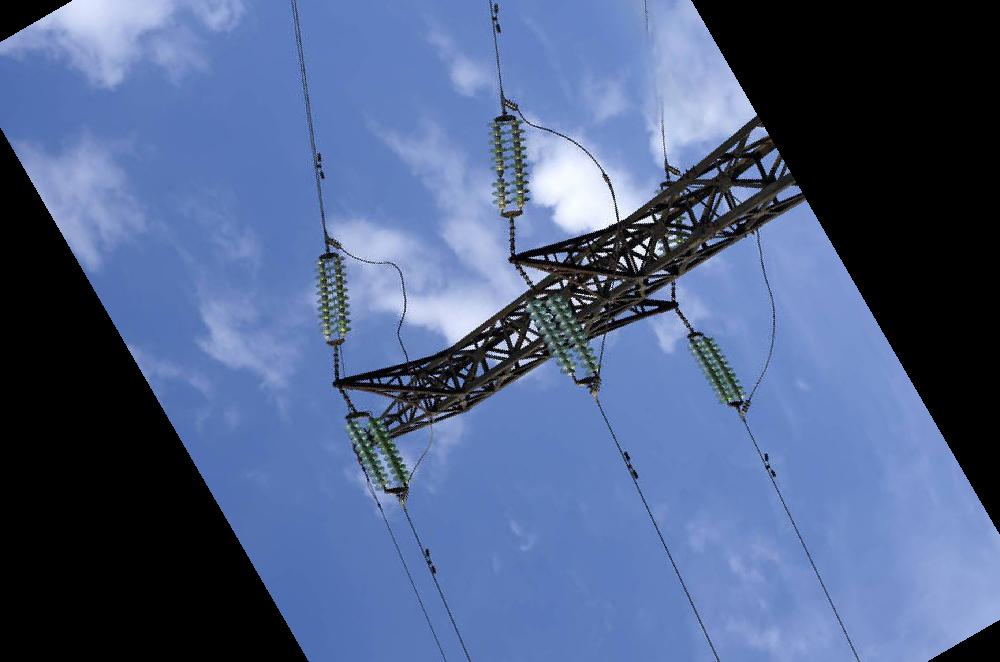insulator: (521, 290, 604, 382), (343, 414, 411, 493), (685, 332, 749, 411), (484, 113, 530, 213), (314, 250, 353, 341)
insulator_stringdrop: (489, 163, 513, 192)
